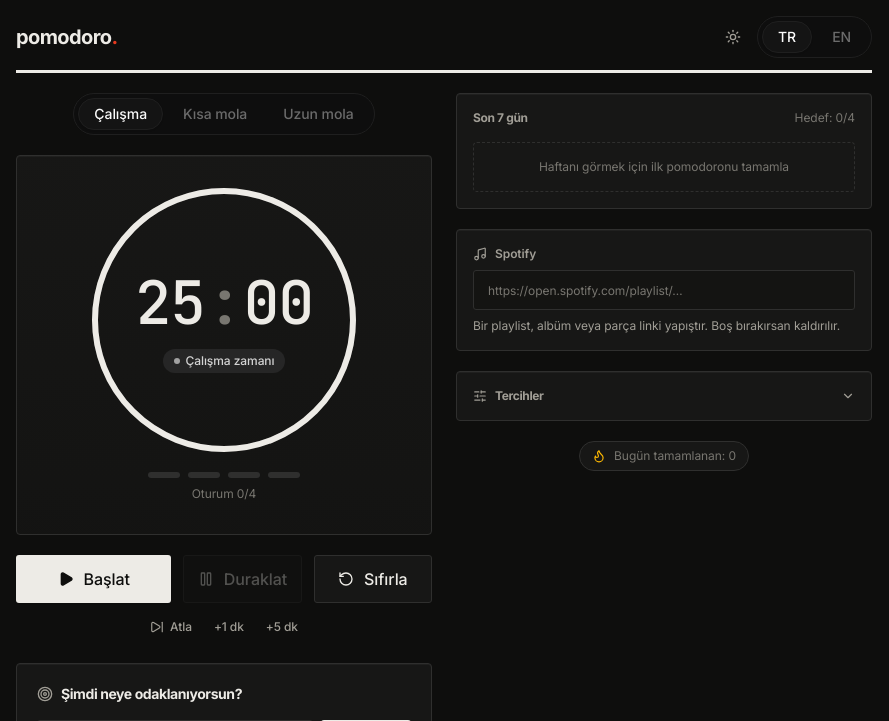
Test: PomodoroApp › switching the language re-renders English and persists the choice
The image size is (889, 721).
Expected: the button "Başlat" is shown, [16,555,171,603]
Click the button "EN".
click(842, 37)  # box [816,21,867,53]
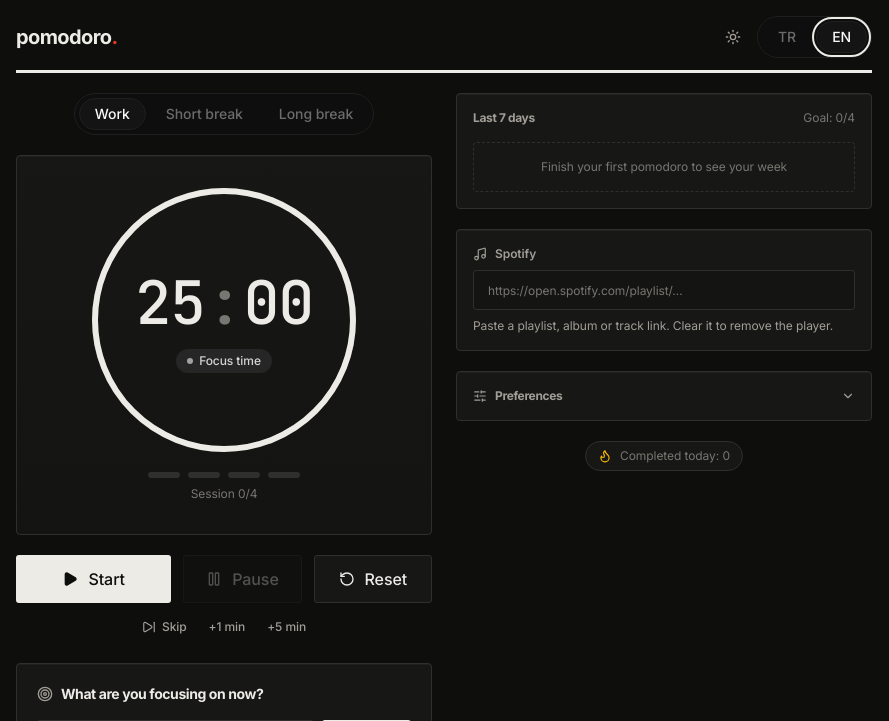
Result: the button "Start" is shown at [16,555,171,603]
Result: the button "Pause" is shown at [183,555,302,603]
